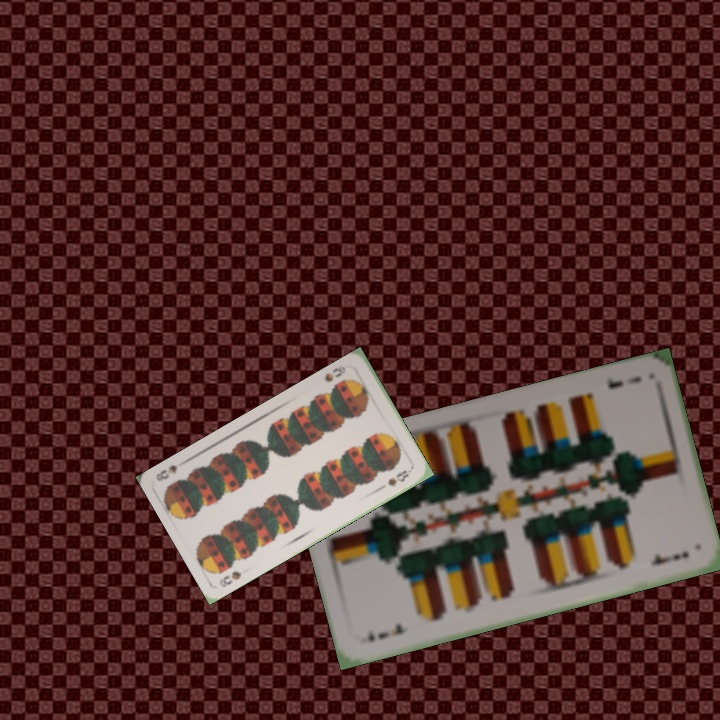E7: (363, 619, 411, 645), (604, 373, 643, 392)
S8: (215, 567, 245, 590), (321, 361, 348, 385)
